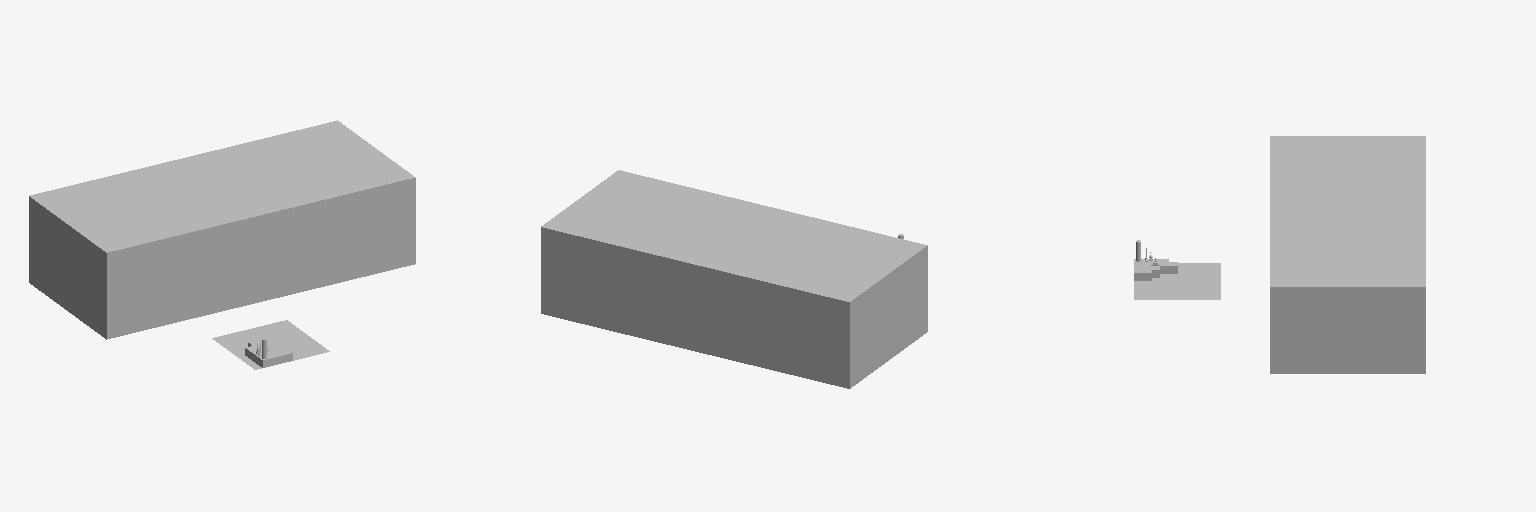
Rendered from Pin.obj.
The picture shows the model from 3 angles: view 1: azimuth 30°, elevation 25°; view 2: azimuth 150°, elevation 25°; view 3: azimuth 270°, elevation 25°; orthographic projection.
Parts seen in each view (by area): view 1: Cube.007, Plane; view 2: Cube.007; view 3: Cube.007, Plane.
Boxes of the visible parts, box(x1,y1,x2,y2) form: Cube.007: box(29, 120, 415, 339); Plane: box(212, 320, 329, 369); Cube.007: box(541, 170, 927, 388); Cube.007: box(1270, 136, 1425, 373); Plane: box(1134, 263, 1220, 299).
Size of the model in its own units: 2460 by 678 by 2007.